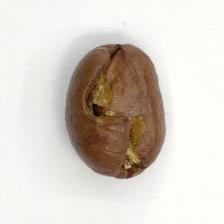NG: (85, 46, 148, 171)
